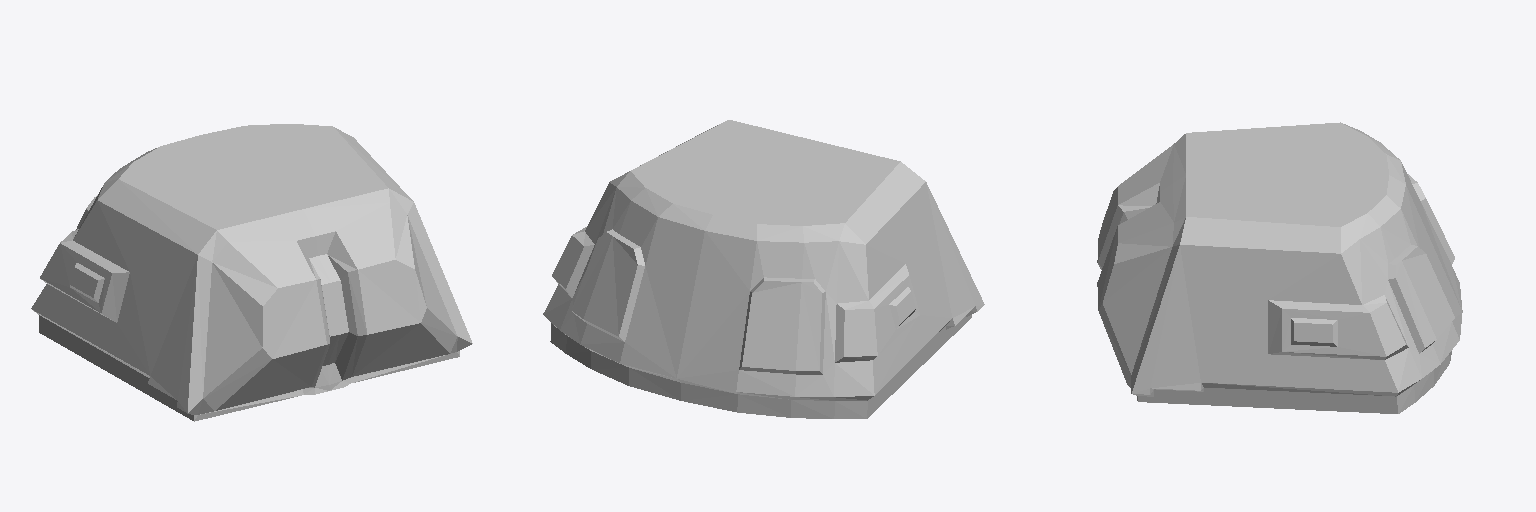
Rendered from heavycruiserion.1-1.obj.
3 renders of one model, left to right at view 1: azimuth 30°, elevation 25°; view 2: azimuth 150°, elevation 25°; view 3: azimuth 270°, elevation 25°, orthographic.
Visible parts, largest first — view 1: Tai_HeavyCruiserGun; view 2: Tai_HeavyCruiserGun; view 3: Tai_HeavyCruiserGun.
Boxes of the visible parts, x1,y1,x2,y2 form: Tai_HeavyCruiserGun: [31, 124, 472, 421]; Tai_HeavyCruiserGun: [543, 120, 984, 418]; Tai_HeavyCruiserGun: [1097, 122, 1462, 413].
Bounding box in the file's own units: 38.17 × 17.84 × 36.39.